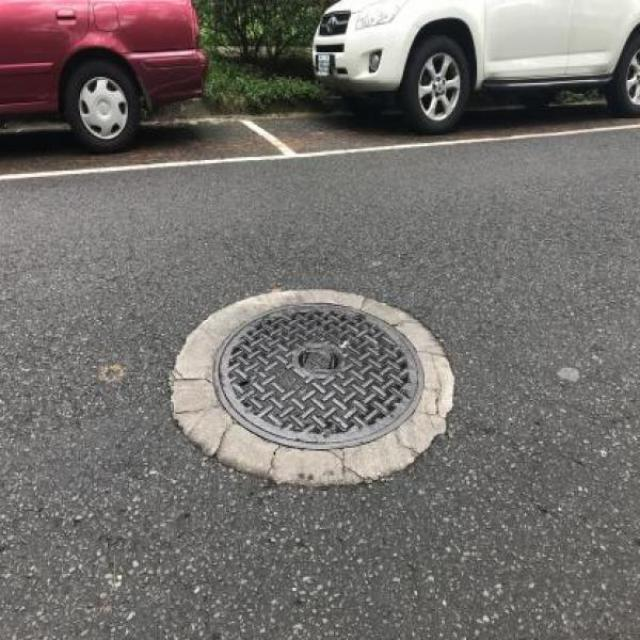Good: (205, 297, 430, 449)
